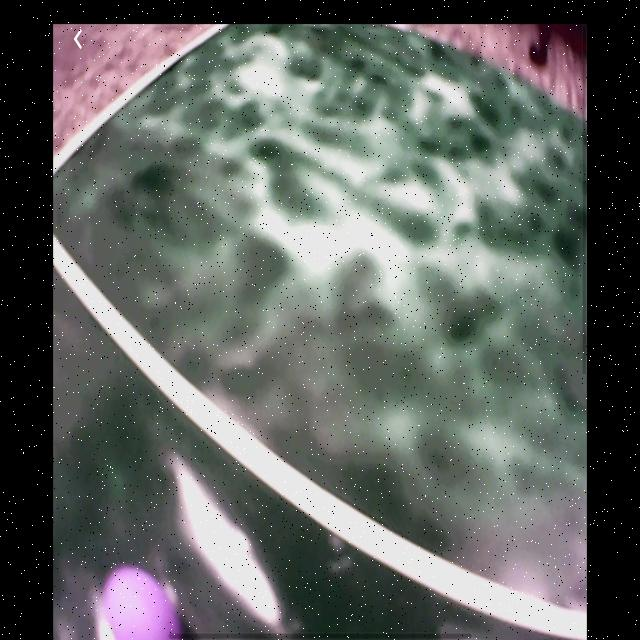ball: (101, 569, 182, 640)
